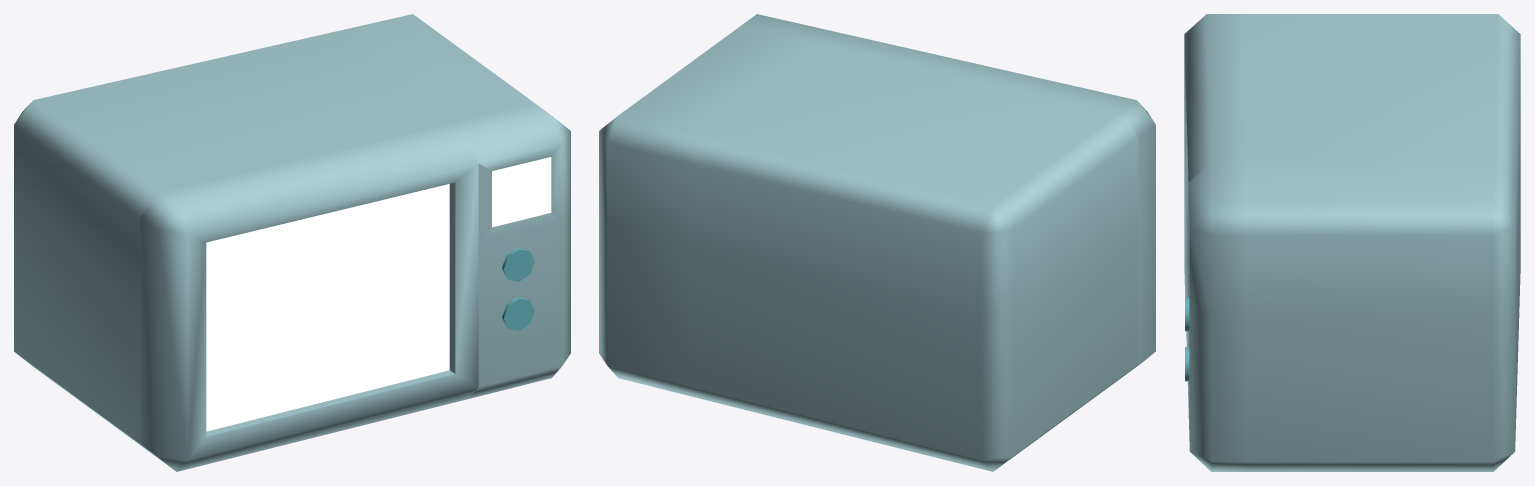
Rendered from app_microwave.fbx.
3 renders of one model, left to right at view 1: azimuth 30°, elevation 25°; view 2: azimuth 150°, elevation 25°; view 3: azimuth 270°, elevation 25°, orthographic.
Parts seen in each view (by area): view 1: microwave_body, microwave_door; view 2: microwave_body, microwave_door; view 3: microwave_body, microwave_door.
Boxes of the visible parts, <box> form: microwave_body: <box>14,14,570,457</box>; microwave_door: <box>140,123,478,471</box>; microwave_body: <box>599,14,1138,471</box>; microwave_door: <box>825,33,1155,378</box>; microwave_body: <box>1185,14,1520,471</box>; microwave_door: <box>1184,14,1244,407</box>.
Size of the model in its own units: 49.17 by 30.15 by 33.95.
